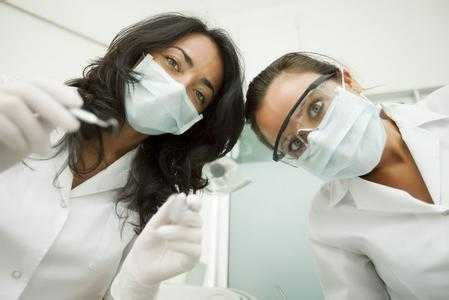mask: (299, 89, 384, 179), (124, 56, 202, 137)
